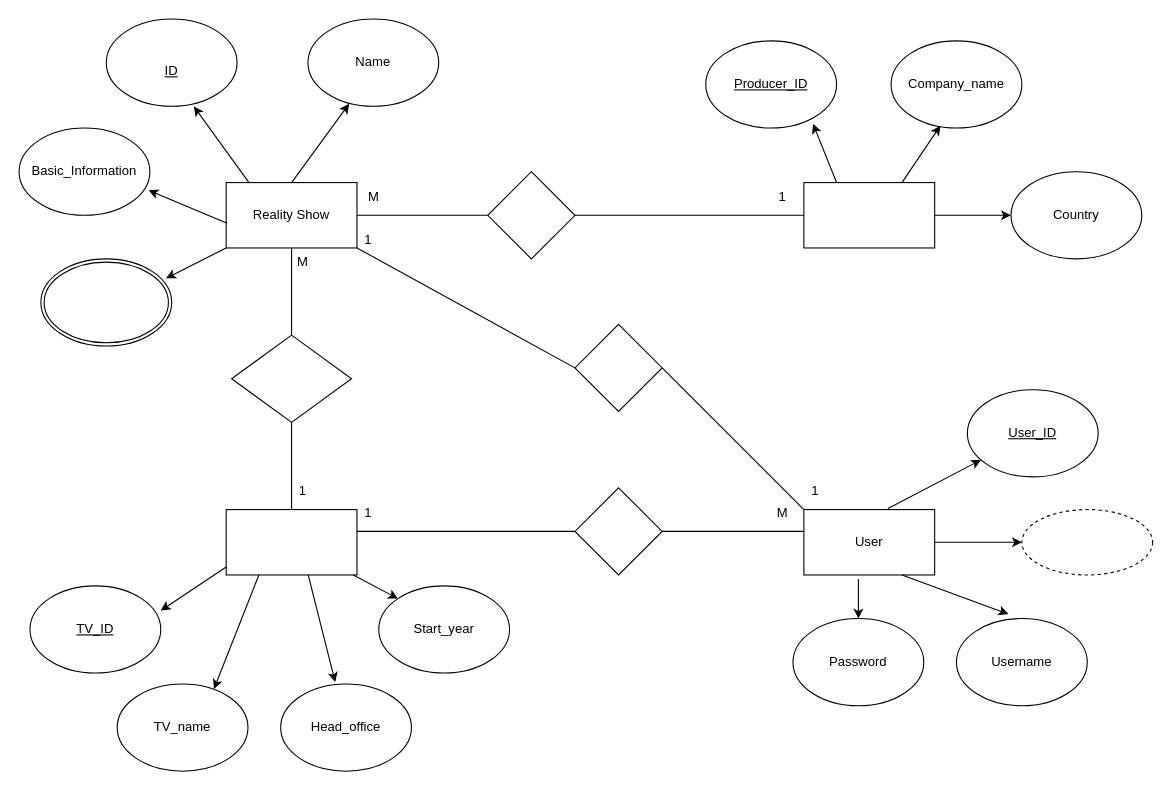
The diagram is 1172 pixels wide and 790 high, and some of its shapes have lost their labels. The shapes that lost their labels are listed below. From the top down, each one's centre as x and y in pixels, then its label:
At point 531,215: "is_produced".
At point 869,214: "Producer".
At point 106,302: "Participants".
At point 291,378: "is_broadcasted".
At point 618,367: "is_rated".
At point 291,541: "TV Channel".
At point 618,531: "has".
At point 1087,541: "Age".
